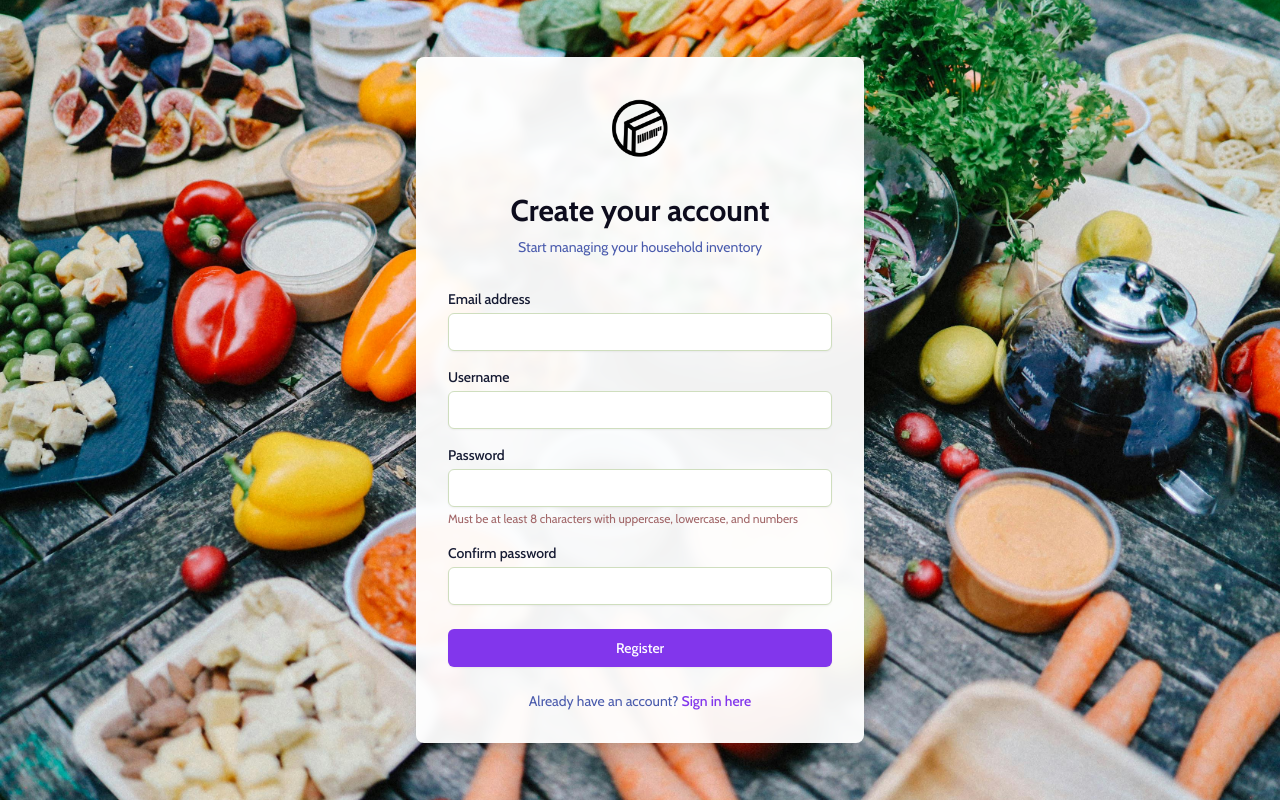
Test: Register page › rejects mismatched passwords
Type "a@b.c" into the field labelled "Email address" at [640, 332], box [448,313,832,351]
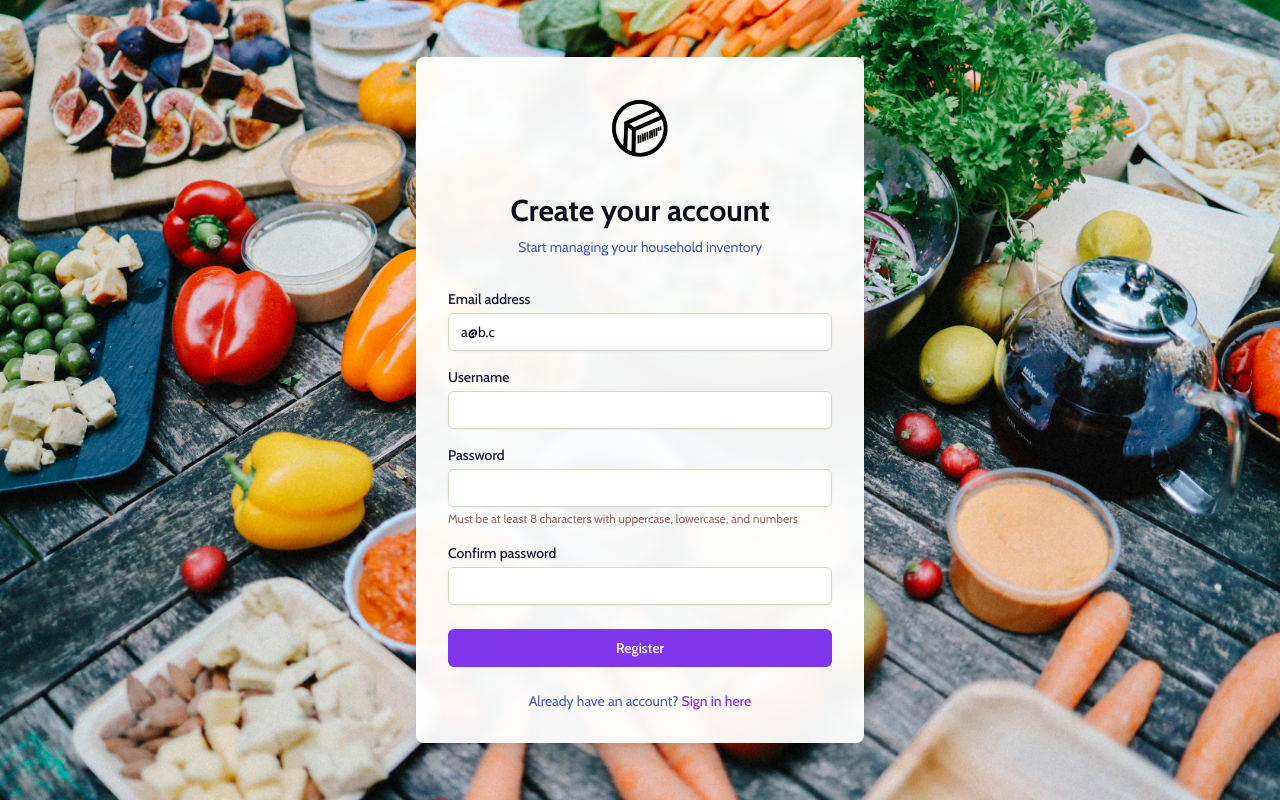
Type "alice" into the field labelled "Username" at [640, 410], box [448,391,832,429]
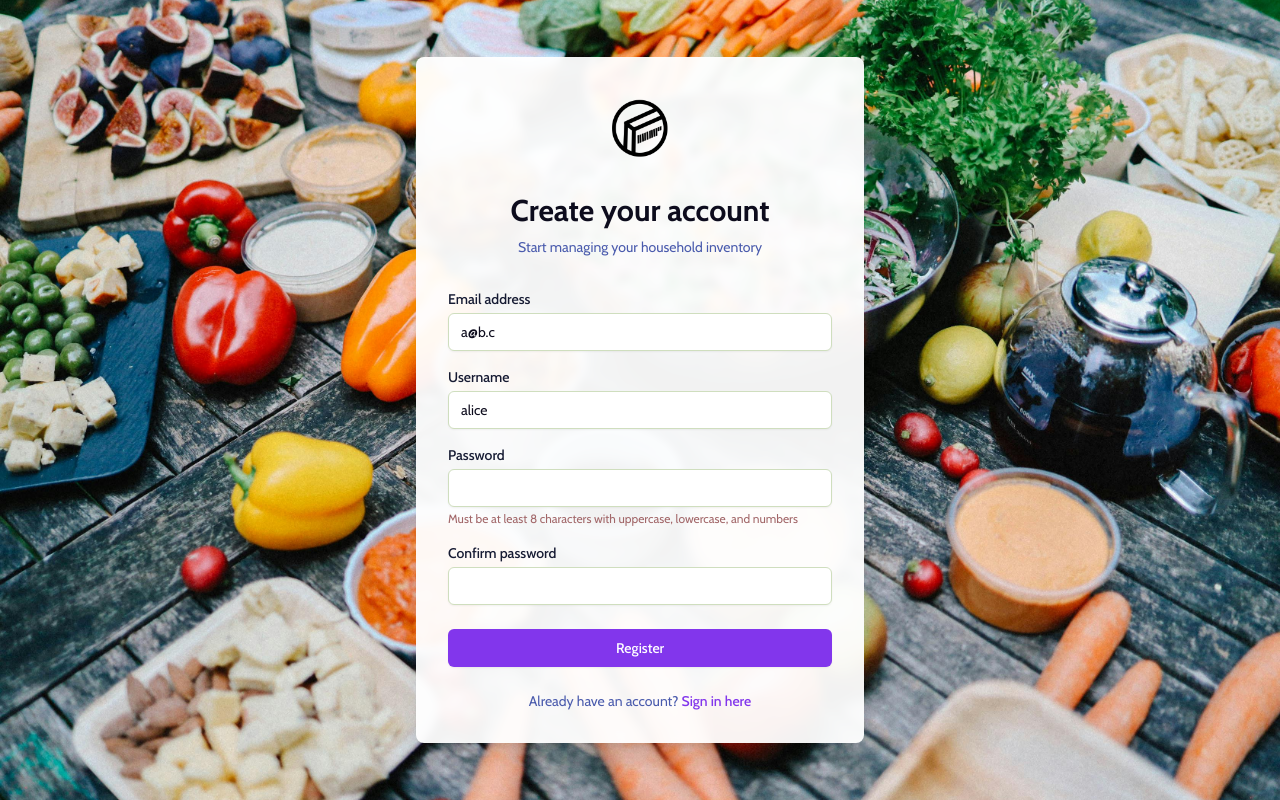
Type "password1" into the password field labelled "Password" at [640, 488], box [448,469,832,507]
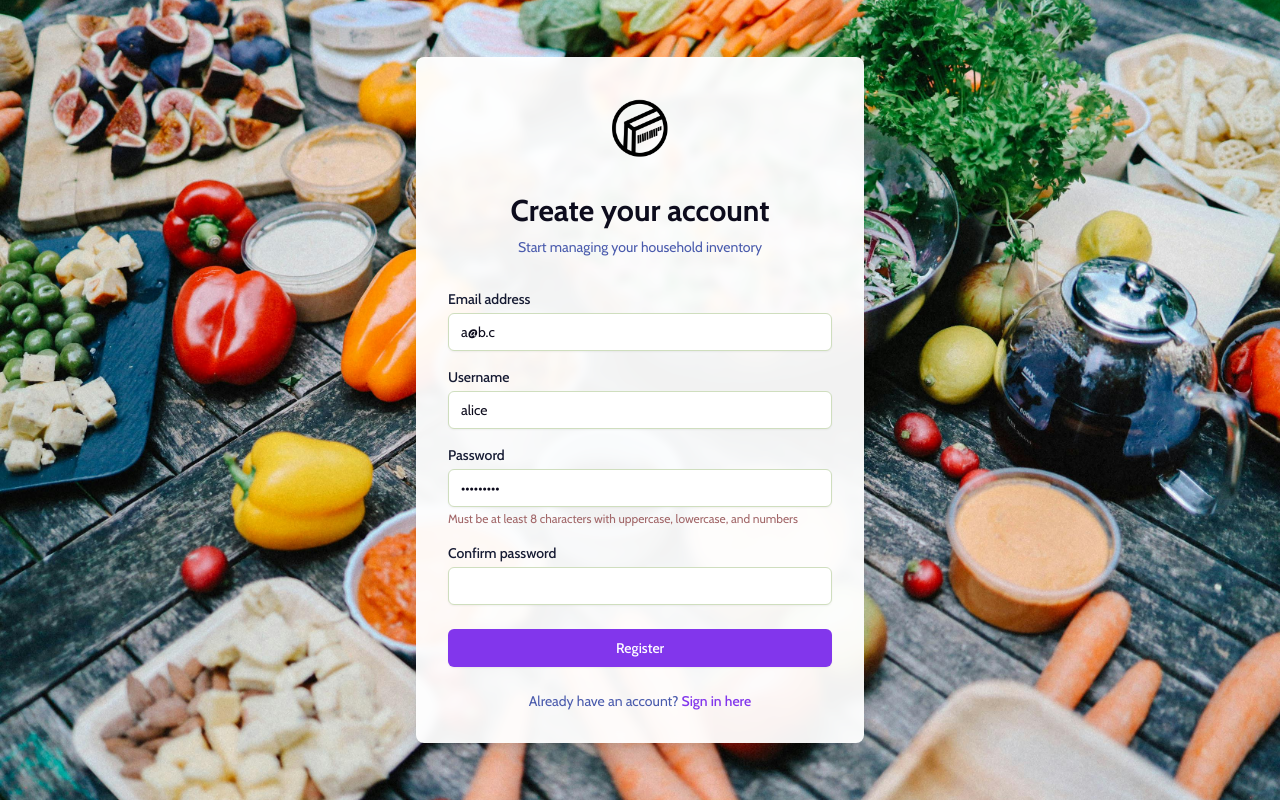
Type "different1" into the password field labelled "Confirm password" at [640, 586], box [448,567,832,605]
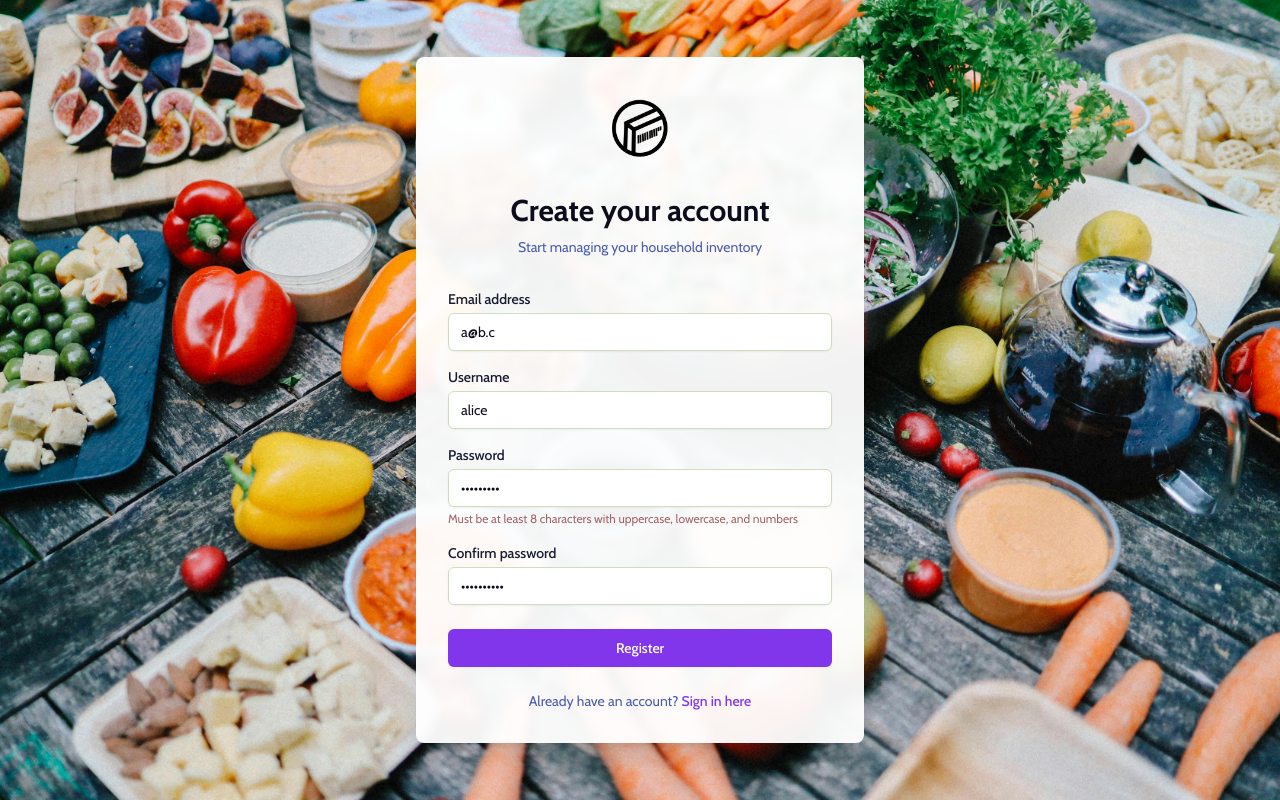
Click the button "Register" at [640, 648], box [448,629,832,667]
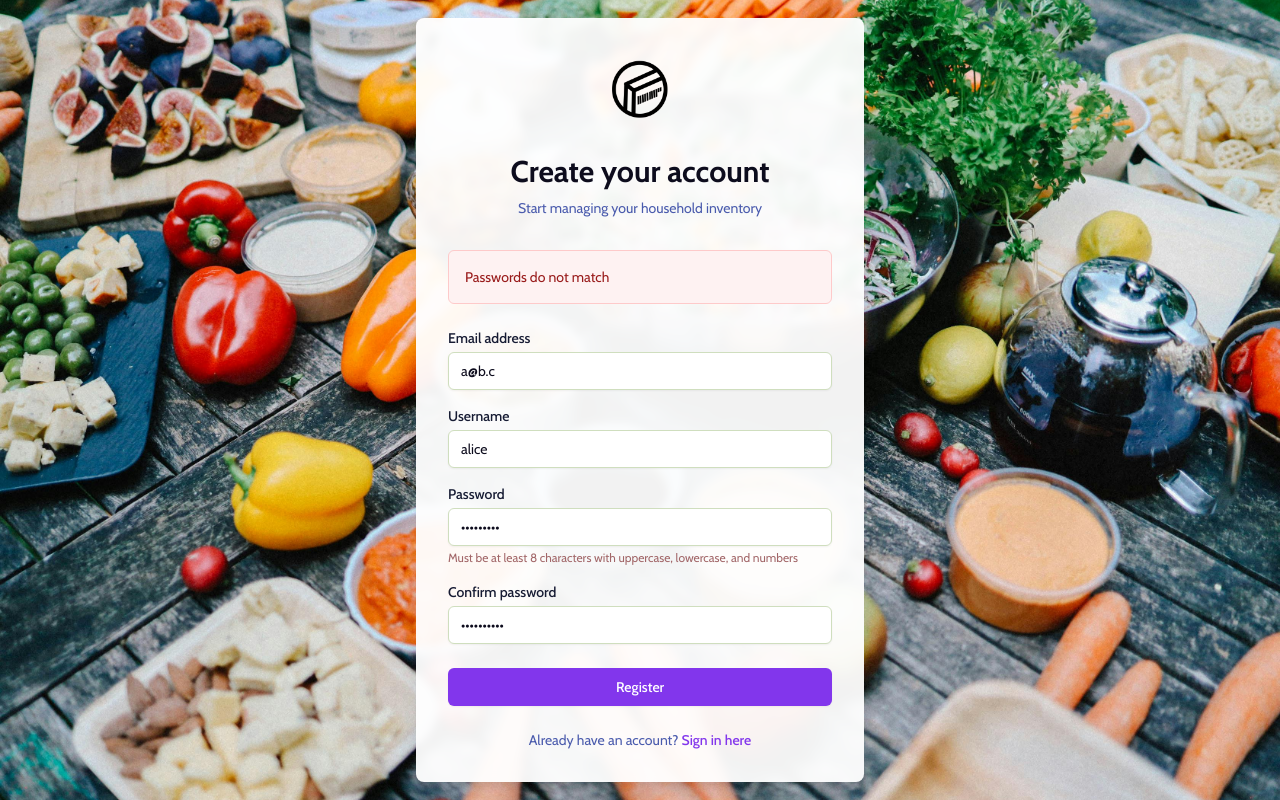
Result: the text "Passwords do not match" is shown at [465,268,609,286]
